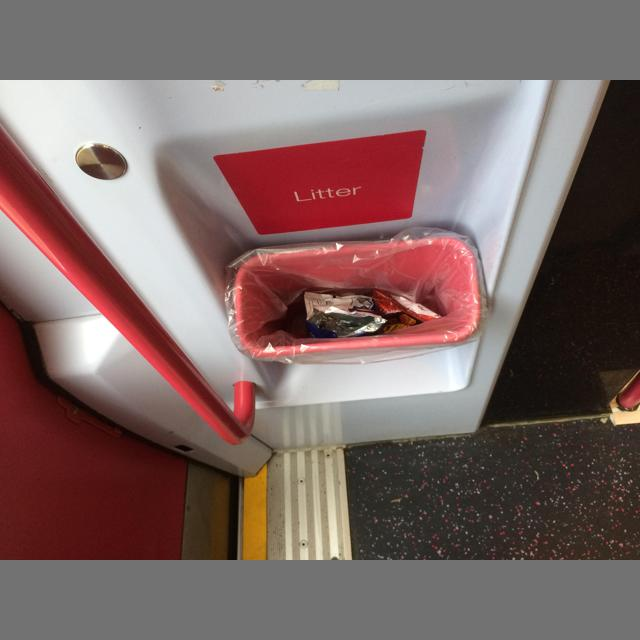litter: (224, 227, 488, 364), (304, 292, 388, 338), (373, 288, 441, 334)
